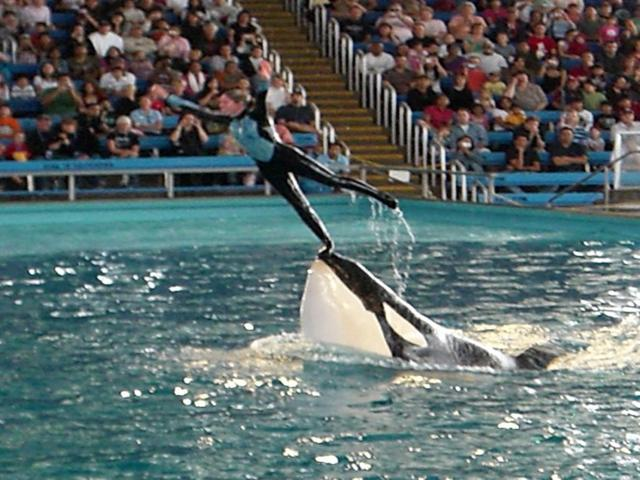dolphin: (303, 242, 587, 378)
